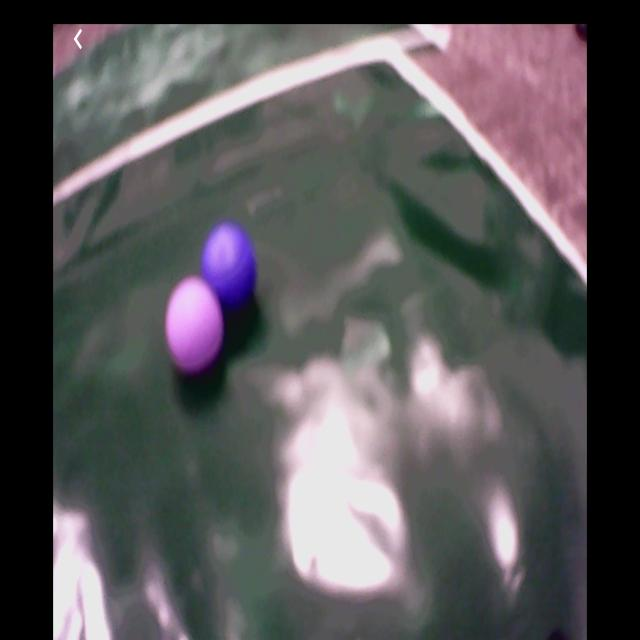ball: (166, 279, 226, 370), (196, 225, 258, 306)
